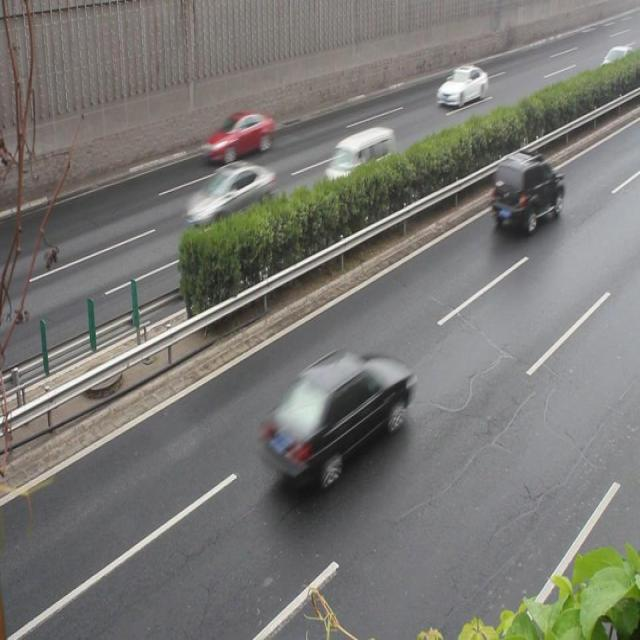car: (260, 349, 414, 484), (185, 164, 275, 233), (491, 150, 562, 234), (204, 114, 272, 163), (436, 65, 488, 109)
truck: (323, 127, 396, 195)
